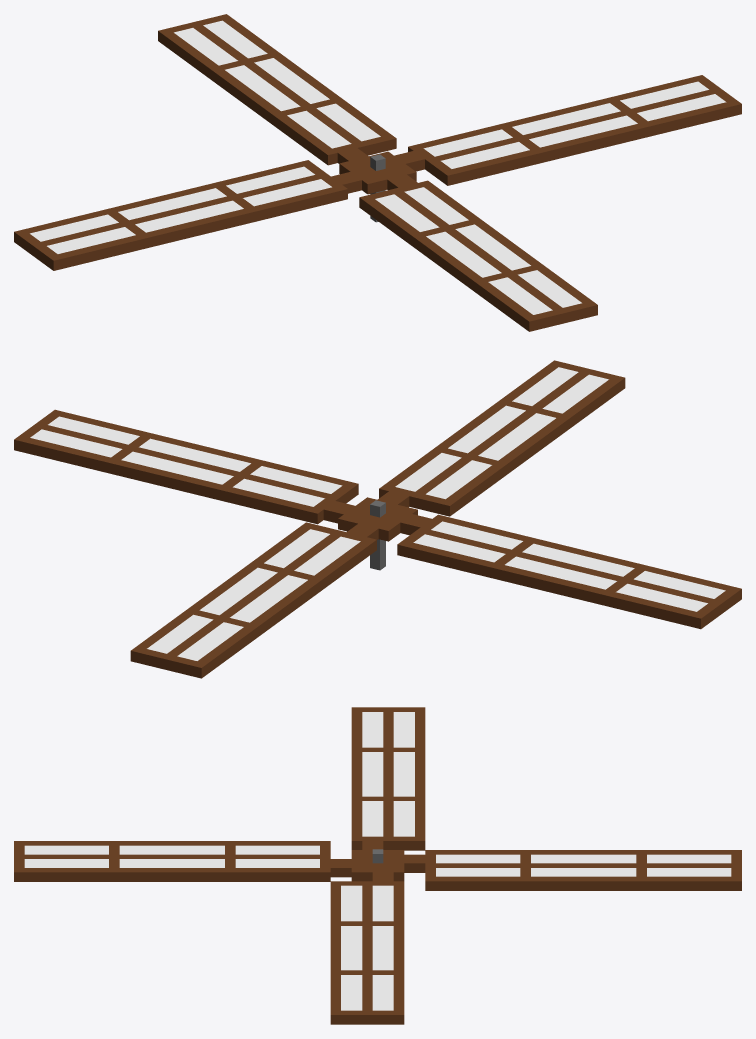
Rendered from windmill_blades.dae.
3 renders of one model, top to bottom at view 1: azimuth 30°, elevation 25°; view 2: azimuth 150°, elevation 25°; view 3: azimuth 270°, elevation 25°, orthographic. The views are drawn at different scales.
Visible parts, largest first — view 1: PlaneCOL; view 2: PlaneCOL; view 3: PlaneCOL.
Boxes of the visible parts, x1,y1,x2,y2 form: PlaneCOL: [14, 14, 741, 331]; PlaneCOL: [14, 360, 741, 678]; PlaneCOL: [14, 707, 741, 1024].
Size of the model in its own units: 6.9 by 6.9 by 0.6.
